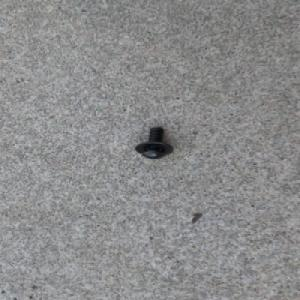BoltWasher: (134, 126, 173, 159)
